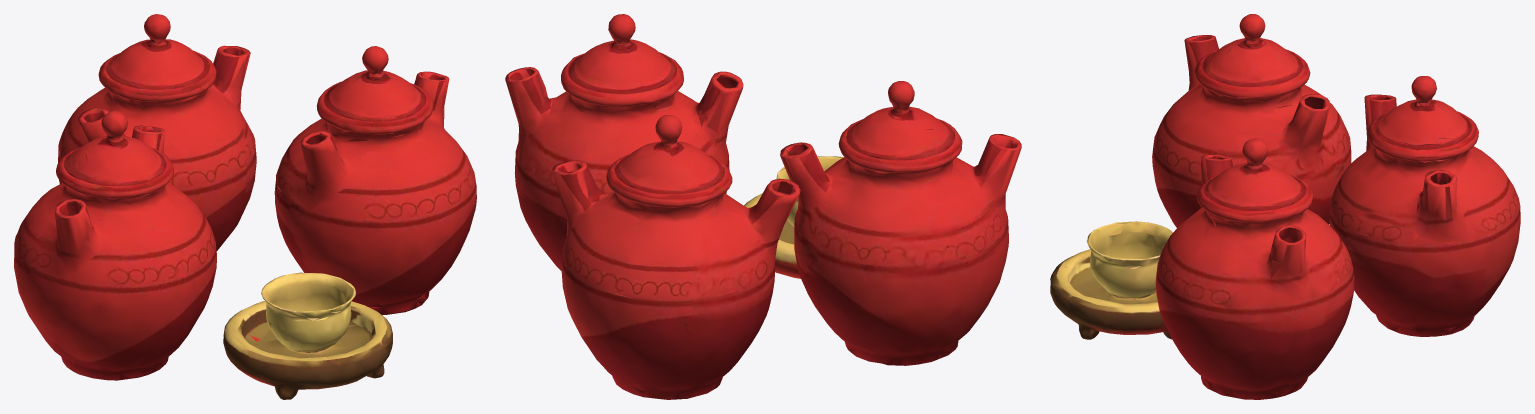
File: matka_pots.glb
The picture shows the model from 3 angles, left to right: view 1: azimuth 30°, elevation 25°; view 2: azimuth 150°, elevation 25°; view 3: azimuth 270°, elevation 25°; orthographic projection. The views are drawn at different scales.
Parts seen in each view (by area): view 1: matka_pots; view 2: matka_pots; view 3: matka_pots.
Boxes of the visible parts, left/top/right/bottom form: matka_pots: left=14, top=14, right=476, bottom=399; matka_pots: left=505, top=14, right=1021, bottom=399; matka_pots: left=1050, top=14, right=1520, bottom=399.
Size of the model in its own units: 1 by 0.5349 by 0.9534.
Materials: 1 (1 with a texture image).
